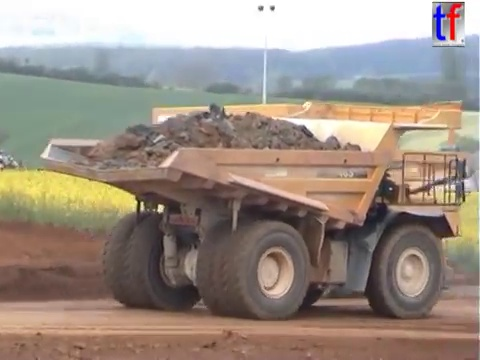truck: (37, 96, 480, 323)
